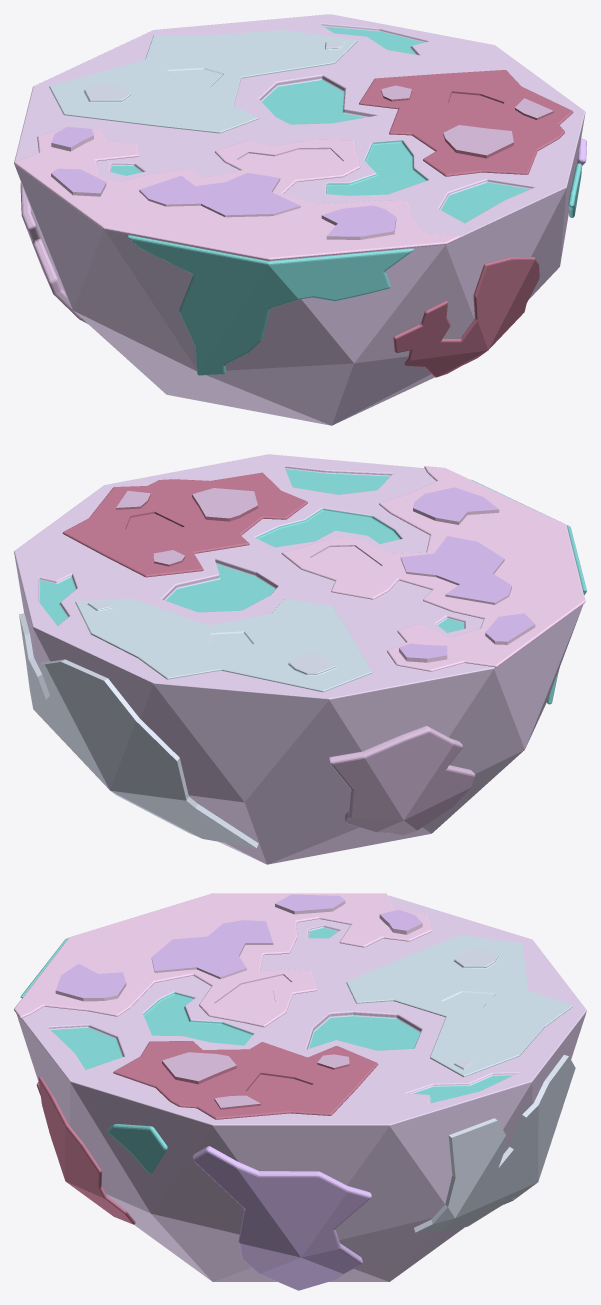
Rendered from ZEME2 (1).fbx.
3 renders of one model, top to bottom at view 1: azimuth 30°, elevation 25°; view 2: azimuth 150°, elevation 25°; view 3: azimuth 270°, elevation 25°, orthographic. The views are drawn at different scales.
Parts seen in each view (by area): view 1: Icosphere, Icosphere.002, Icosphere.009, Icosphere.003, Icosphere.010, Icosphere.004, Icosphere.008; view 2: Icosphere, Icosphere.002, Icosphere.009, Icosphere.007, Icosphere.010, Icosphere.008, Icosphere.003; view 3: Icosphere, Icosphere.002, Icosphere.009, Icosphere.010, Icosphere.006, Icosphere.007, Icosphere.004, Icosphere.005.
Part boxes in pixels (left/top/right/bottom): Icosphere: left=14, top=14, right=585, bottom=425; Icosphere.002: left=14, top=126, right=460, bottom=260; Icosphere.009: left=49, top=30, right=357, bottom=133; Icosphere.003: left=128, top=235, right=413, bottom=375; Icosphere.010: left=359, top=70, right=573, bottom=176; Icosphere.004: left=393, top=257, right=539, bottom=377; Icosphere.008: left=20, top=183, right=88, bottom=324; Icosphere: left=14, top=454, right=583, bottom=864; Icosphere.002: left=281, top=466, right=585, bottom=671; Icosphere.009: left=75, top=598, right=372, bottom=692; Icosphere.007: left=19, top=613, right=258, bottom=848; Icosphere.010: left=62, top=472, right=307, bottom=577; Icosphere.008: left=328, top=726, right=475, bottom=835; Icosphere.003: left=471, top=479, right=586, bottom=704; Icosphere: left=16, top=895, right=586, bottom=1281; Icosphere.002: left=14, top=893, right=432, bottom=1027; Icosphere.009: left=346, top=935, right=572, bottom=1077; Icosphere.010: left=113, top=1041, right=378, bottom=1119; Icosphere.006: left=192, top=1146, right=371, bottom=1290; Icosphere.007: left=414, top=1055, right=575, bottom=1232; Icosphere.004: left=36, top=1076, right=135, bottom=1224; Icosphere.005: left=107, top=1124, right=167, bottom=1173.
Size of the model in its own units: 470 by 252 by 493.
